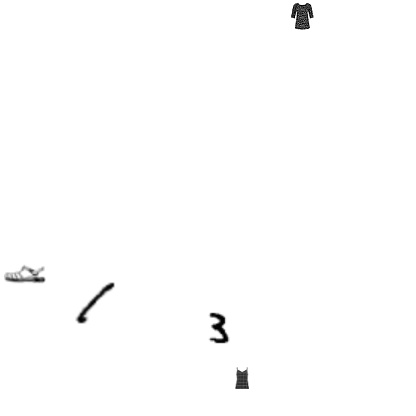1: (64, 275, 120, 331)
3: (198, 307, 240, 349)
Sandal: (4, 253, 46, 295)
Shirt: (288, 2, 316, 30)
T-shirt/top: (231, 367, 253, 389)
